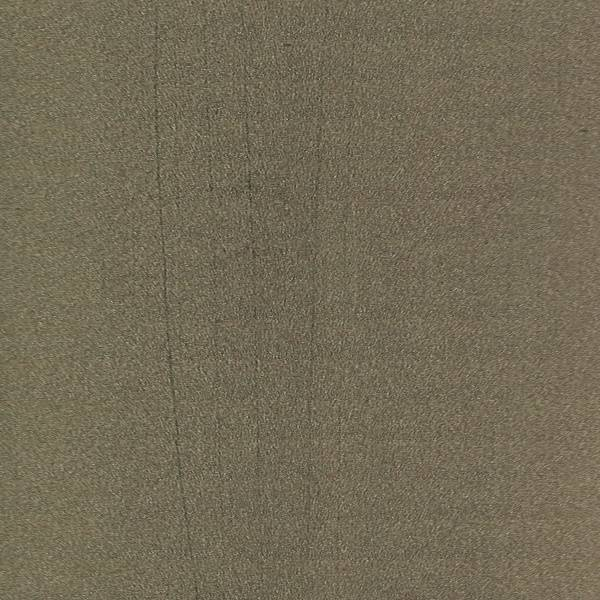road_damage: (153, 15, 199, 585)
